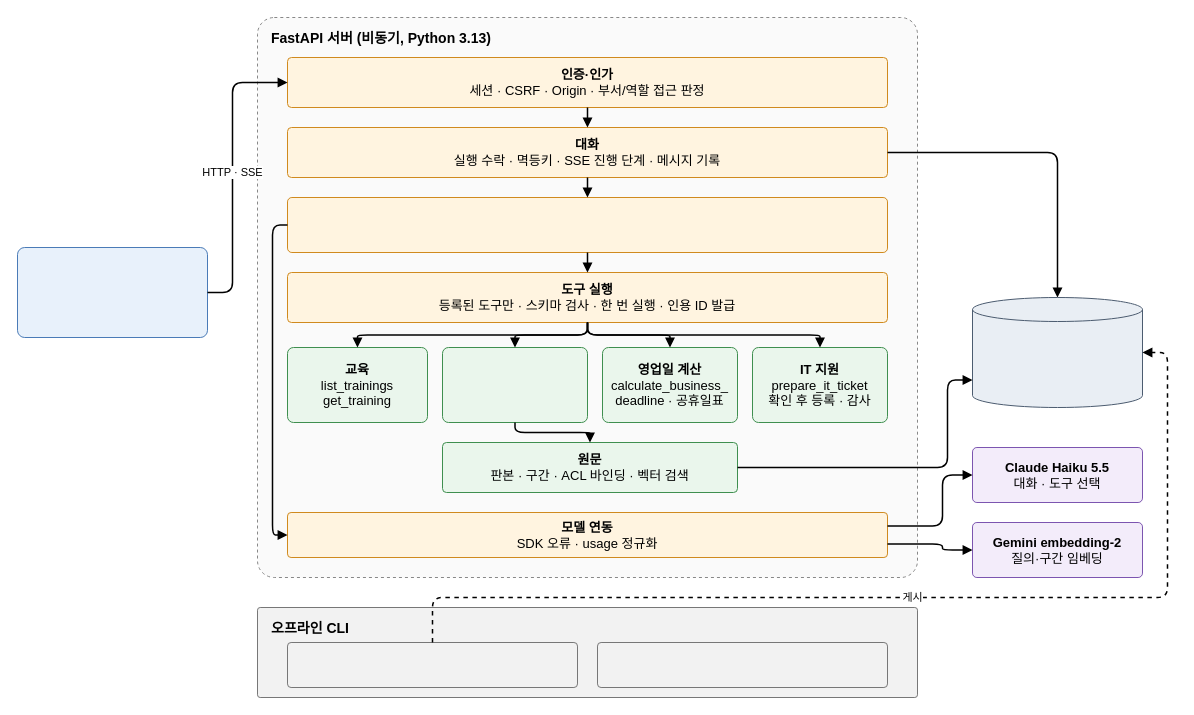
Image size: 1194x715. Some labels were removed from this diagram. Here are the shapes that lost their labels. From the top down, the centre of each, then its label:
the point at 587,224: 에이전트 실행 모델↔도구 반복 · 문맥 예산 4,000 token · 근거 원장 · 최종 결과 확정
the point at 112,292: 웹 React 18 · Vite · TS 대화 · 근거 원문 · 티켓 확인
the point at 1057,352: PostgreSQL 18 + pgvector 대화 · 문서 · 티켓 · 감사
the point at 515,384: 검색 조정 search_documents 사건 날짜 · 판본
the point at 432,665: 수집 PDF 검증 · 추출 · 분할 · 임베딩 → 게시
the point at 742,665: 평가 (eval-run · score · judge) 검증셋 5종 · 규칙 채점 + LLM judge
